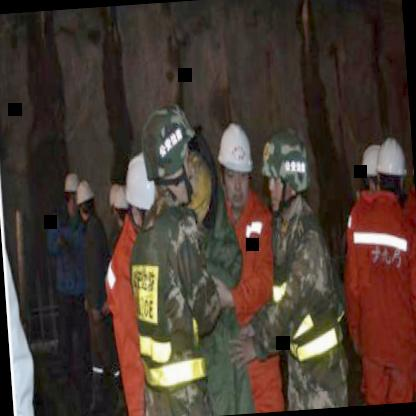helmet: (136, 101, 202, 217), (258, 126, 314, 223), (216, 124, 256, 209), (122, 160, 160, 230), (375, 136, 411, 200), (358, 142, 388, 196), (107, 184, 131, 228), (75, 182, 96, 220), (61, 172, 80, 212)
